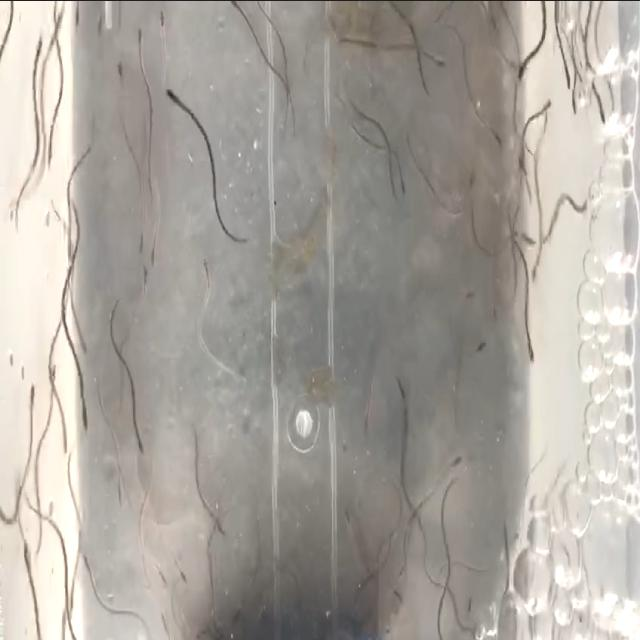active_glass_eel: (126, 6, 154, 76), (179, 466, 213, 521), (162, 68, 195, 122), (64, 363, 92, 425), (151, 192, 175, 256), (155, 1, 182, 56), (386, 140, 412, 197), (122, 395, 144, 452), (126, 264, 152, 312), (386, 383, 413, 428), (62, 526, 84, 580), (86, 566, 108, 616), (46, 382, 68, 428), (568, 185, 594, 223), (356, 396, 378, 438), (42, 121, 62, 167), (558, 53, 576, 104), (106, 56, 124, 106), (446, 450, 470, 486), (518, 316, 540, 355), (337, 490, 358, 530), (514, 56, 534, 98), (480, 112, 504, 146), (472, 330, 492, 370), (496, 26, 513, 72), (142, 555, 158, 601), (429, 51, 452, 82), (588, 88, 608, 122), (130, 180, 146, 222), (21, 380, 41, 412), (332, 76, 352, 108), (64, 607, 82, 640), (198, 257, 215, 289), (60, 190, 76, 222), (505, 176, 522, 206), (31, 44, 45, 80), (164, 550, 177, 587), (456, 283, 471, 315), (91, 414, 110, 438), (229, 0, 243, 22)
